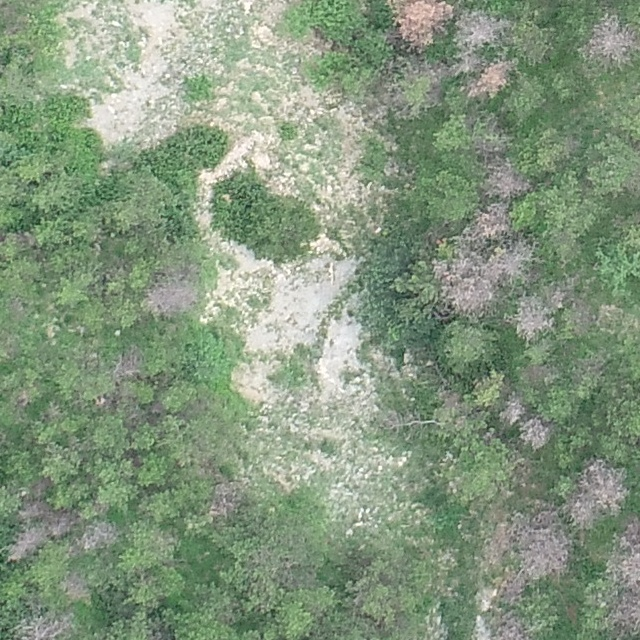unhealthy: (568, 457, 628, 526), (434, 255, 497, 317), (392, 0, 452, 49), (585, 11, 639, 63), (523, 523, 571, 577), (144, 271, 199, 317), (606, 516, 638, 587), (482, 160, 533, 199), (456, 9, 508, 47), (469, 59, 515, 100), (380, 407, 440, 438), (468, 202, 512, 242), (514, 296, 554, 340), (485, 244, 530, 283), (13, 612, 73, 640), (482, 519, 517, 564), (209, 477, 246, 518), (7, 525, 47, 562), (78, 520, 121, 552), (609, 589, 639, 634), (111, 346, 145, 381), (519, 415, 553, 449), (496, 568, 528, 604), (493, 612, 530, 640), (60, 572, 91, 603), (48, 509, 78, 538), (546, 281, 574, 310), (500, 395, 527, 425), (17, 498, 51, 521), (437, 388, 463, 411), (457, 50, 483, 73)
